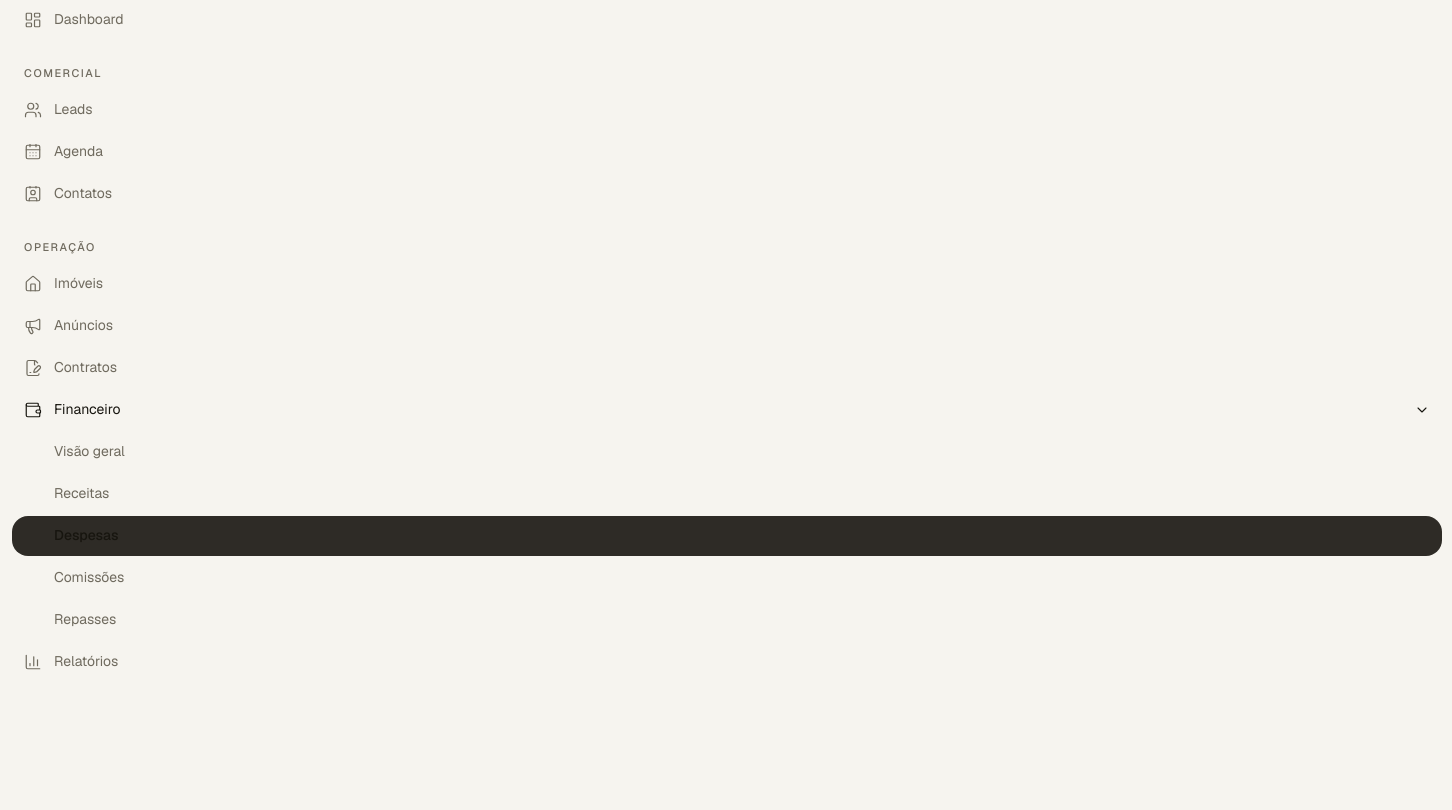
Scenario: submenu do Financeiro (expandido) › o usuário pode fechar o submenu mesmo dentro da rota
Click the button "Financeiro": [87, 409] box [12,390,1442,430]
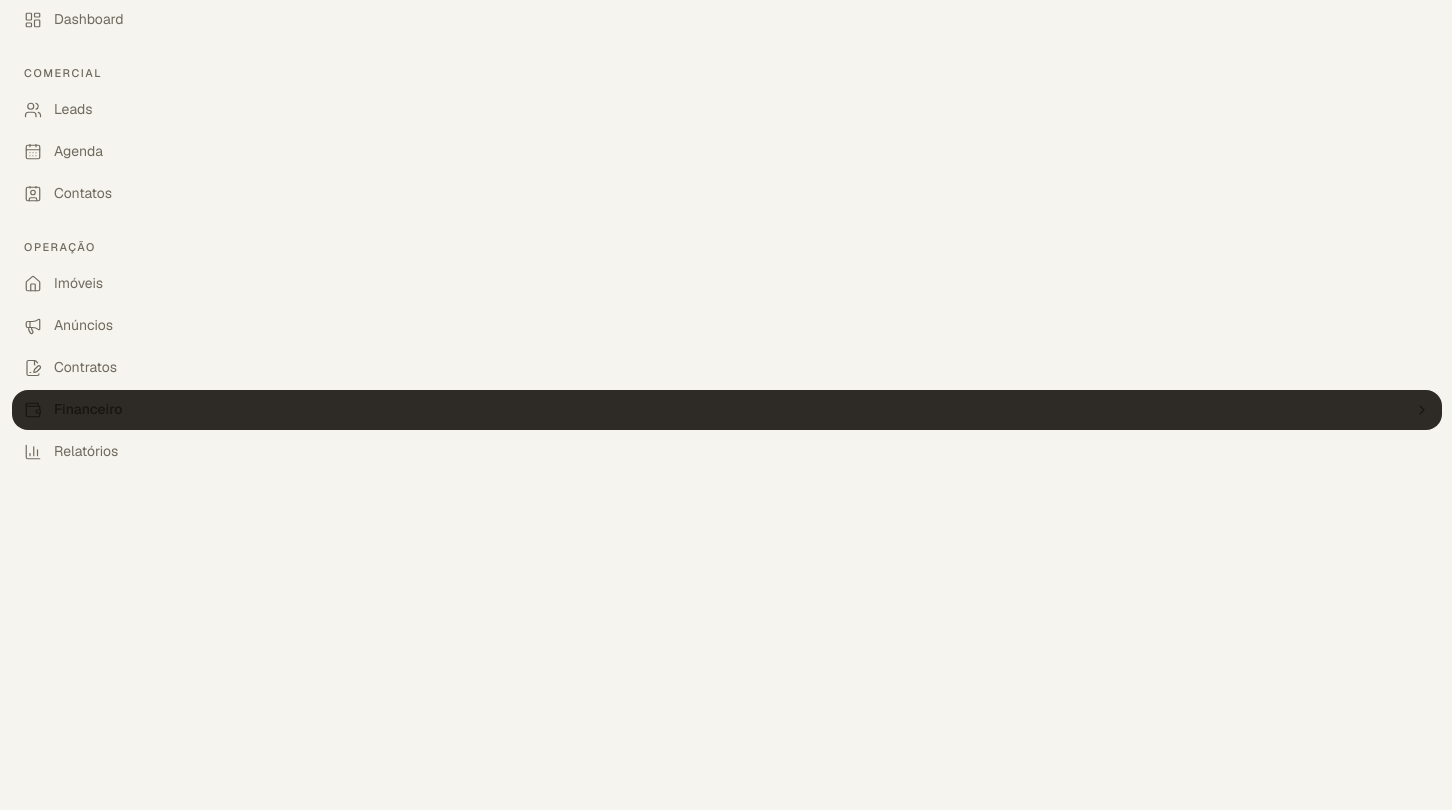
Result: the link "Despesas" is gone
